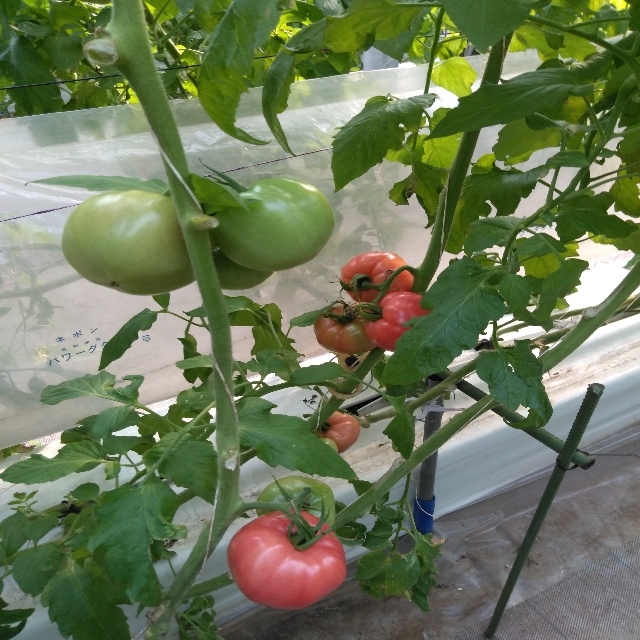b_fully_ripened: (227, 507, 348, 611), (366, 291, 431, 352), (339, 252, 414, 303)
b_green: (61, 191, 197, 295), (213, 179, 335, 272), (255, 476, 336, 527), (312, 304, 381, 354), (214, 251, 274, 291)
b_half_ripened: (316, 410, 360, 454)
